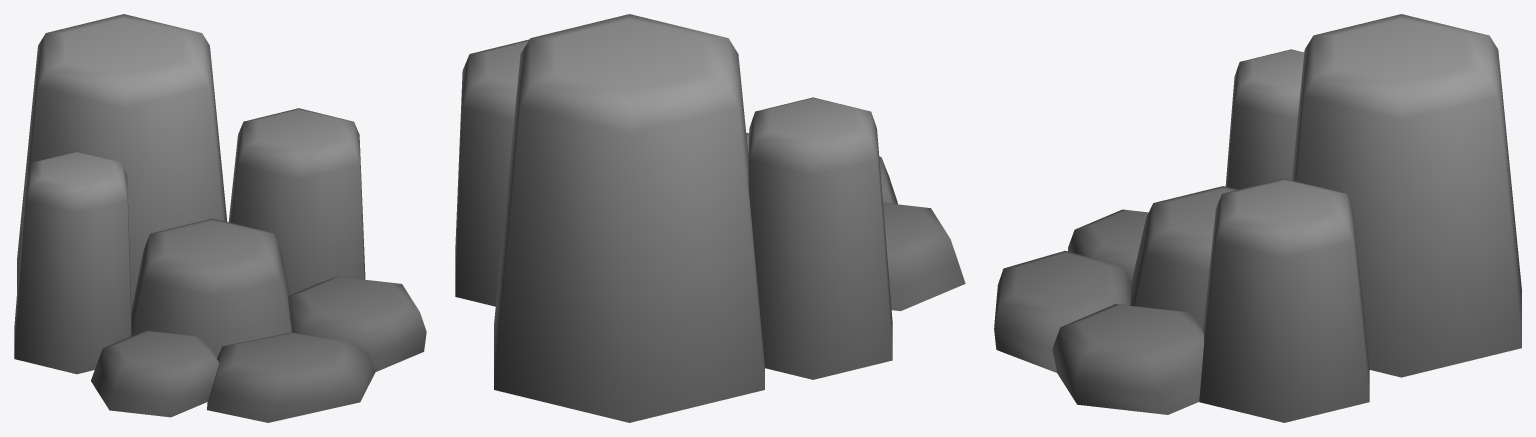
File: Rock_01_B.fbx
3 renders of one model, left to right at view 1: azimuth 30°, elevation 25°; view 2: azimuth 150°, elevation 25°; view 3: azimuth 270°, elevation 25°, orthographic. The views are drawn at different scales.
Visible parts, largest first — view 1: Rock_01_B; view 2: Rock_01_B; view 3: Rock_01_B.
Boxes of the visible parts, bbox=[...] form: Rock_01_B: bbox=[14, 14, 426, 422]; Rock_01_B: bbox=[455, 14, 965, 422]; Rock_01_B: bbox=[994, 14, 1521, 422].
Size of the model in its own units: 5497 by 3580 by 6407.
